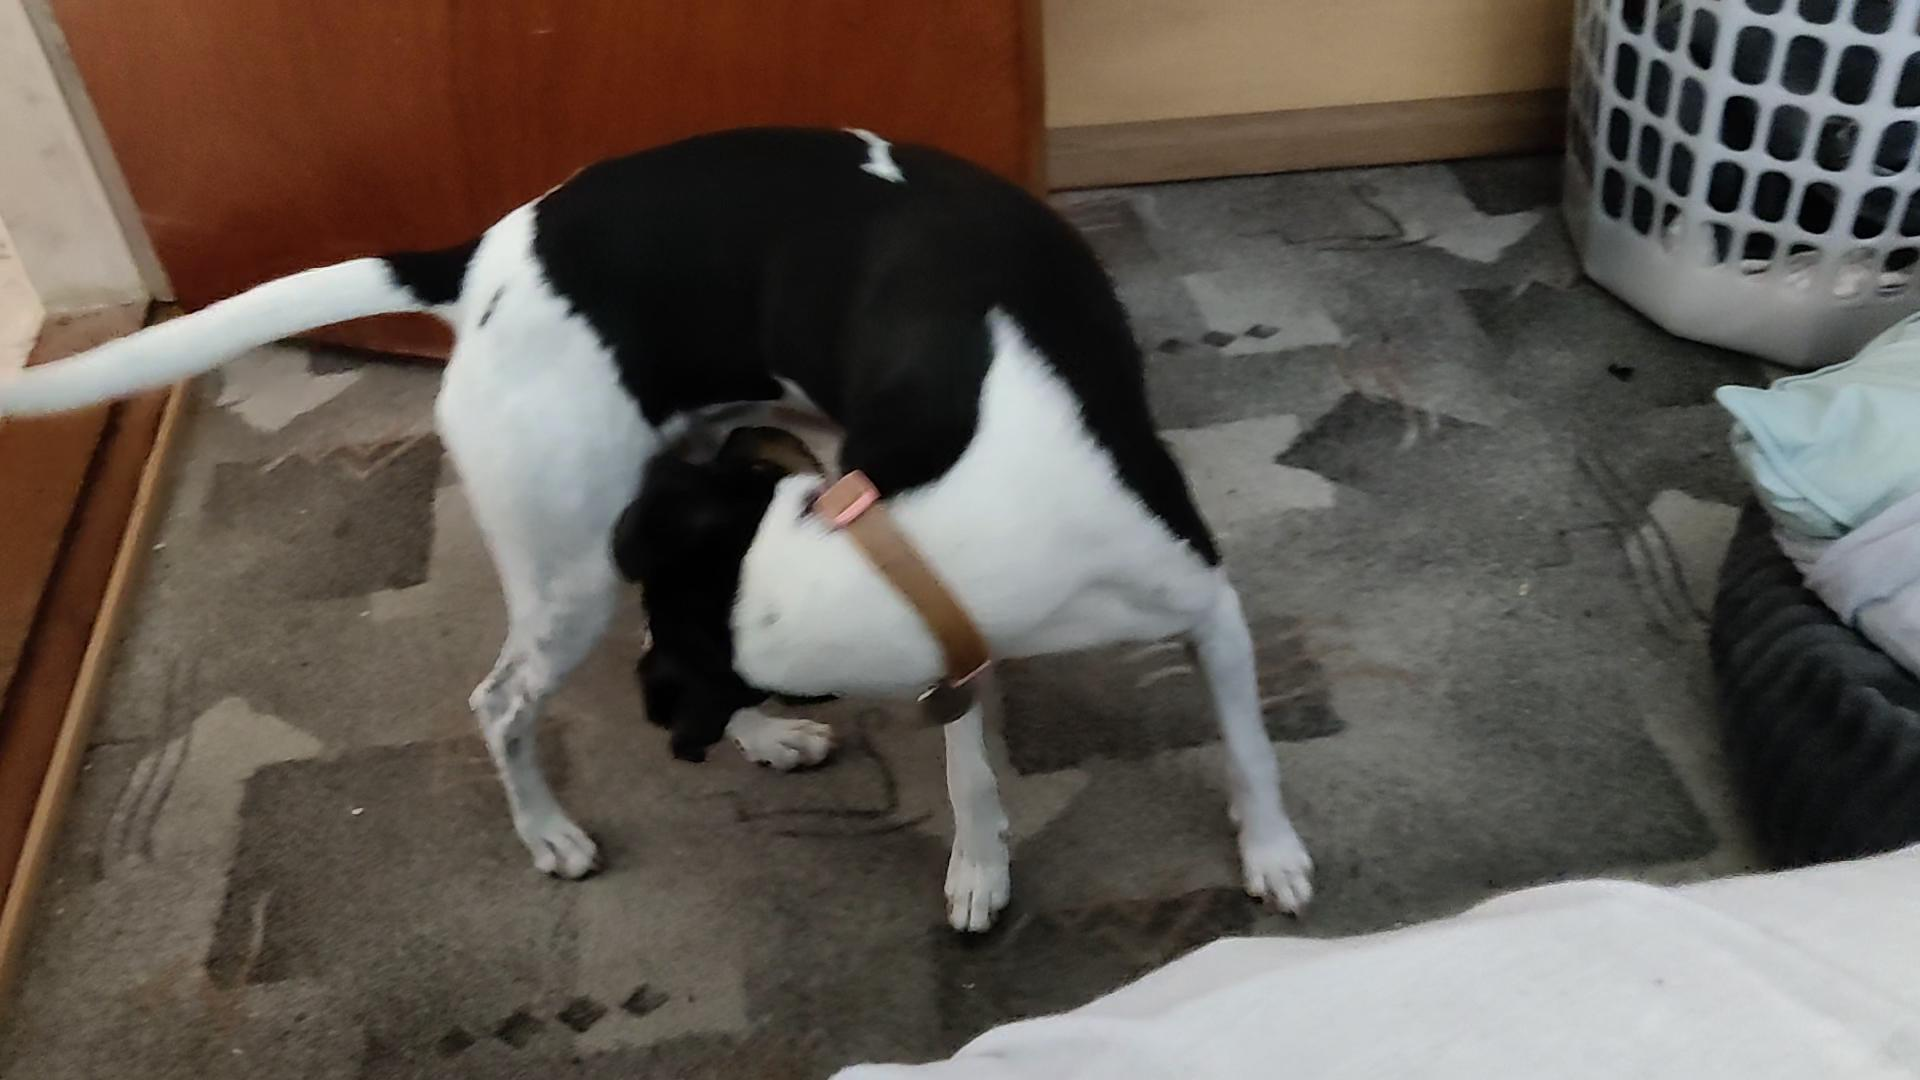Dog: (0, 115, 1325, 942)
